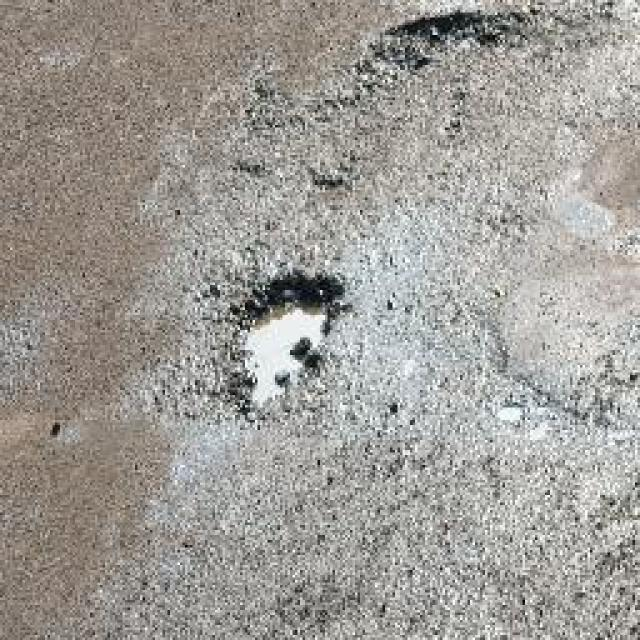waterlogging: (211, 252, 335, 400)
